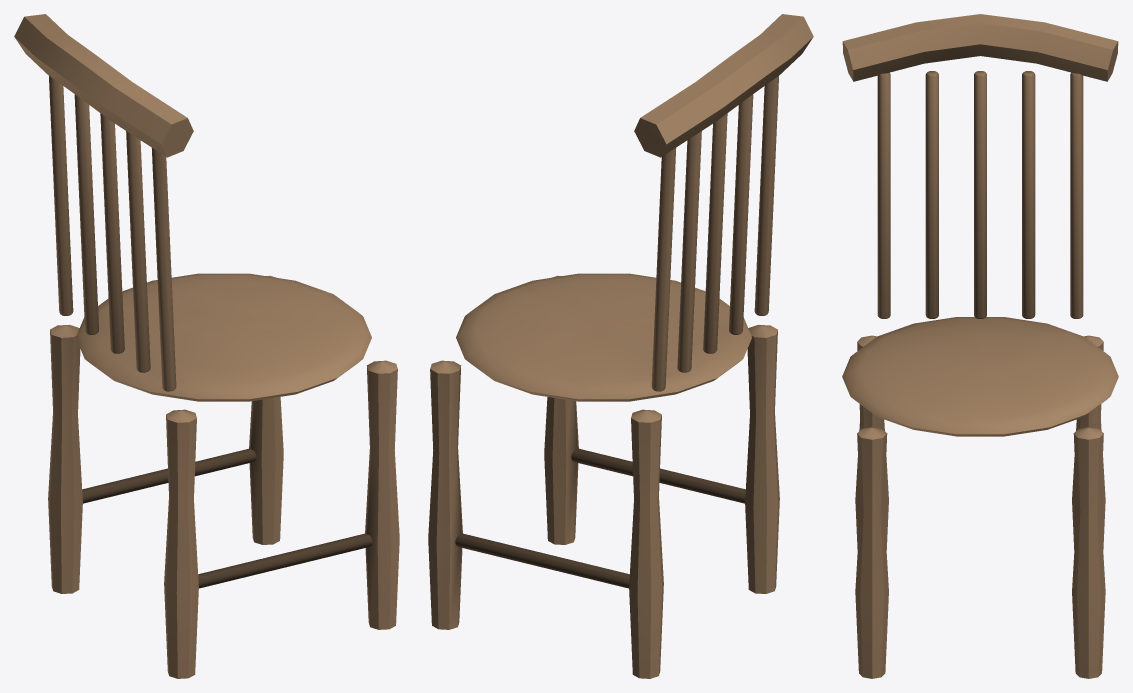
The model's file is chair.glb.
3 renders of one model, left to right at view 1: azimuth 30°, elevation 25°; view 2: azimuth 150°, elevation 25°; view 3: azimuth 270°, elevation 25°, orthographic. The views are drawn at different scales.
Visible parts, largest first — view 1: boat_oak; view 2: boat_oak; view 3: boat_oak.
Boxes of the visible parts, x1=… form: boat_oak: x1=14, y1=14, x2=399, y2=678; boat_oak: x1=428, y1=14, x2=813, y2=678; boat_oak: x1=842, y1=14, x2=1118, y2=678.
Bounding box in the file's own units: 0.5115 × 1 × 0.46.
